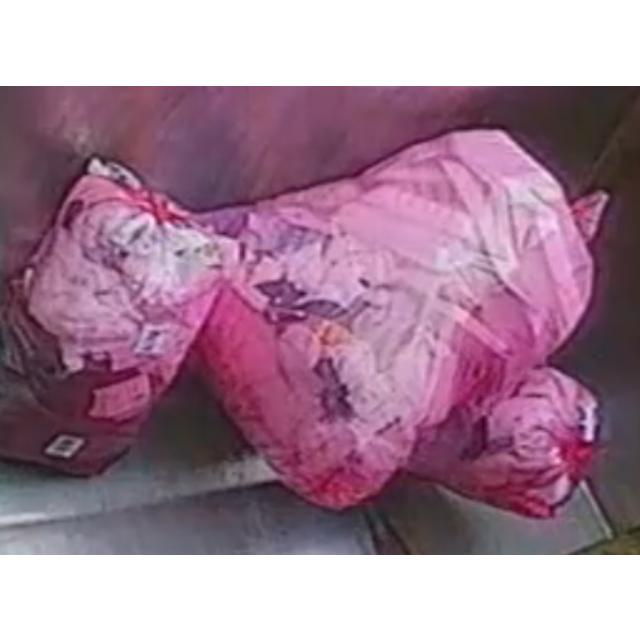other_trashbag: (191, 130, 592, 505), (0, 158, 230, 474), (406, 366, 598, 516)
